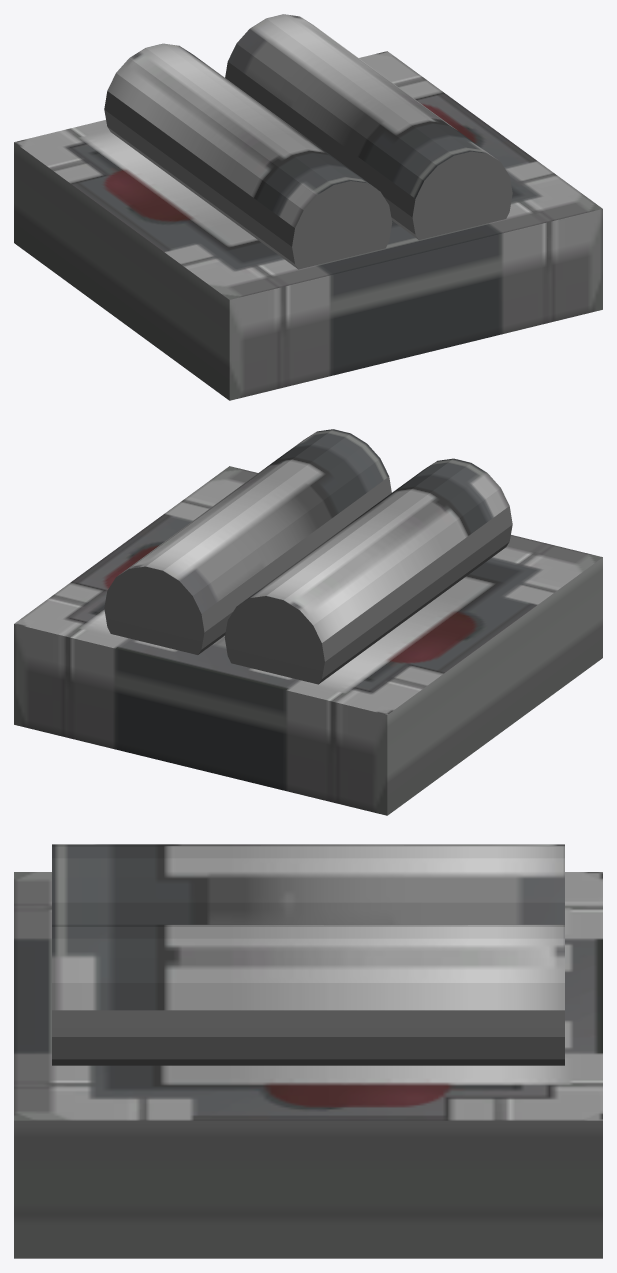
The model's file is Building_FuelOptimizer.obj.
The picture shows the model from 3 angles, top to bottom: view 1: azimuth 30°, elevation 25°; view 2: azimuth 150°, elevation 25°; view 3: azimuth 270°, elevation 25°; orthographic projection. The views are drawn at different scales.
Visible parts, largest first — view 1: Body; view 2: Body; view 3: Body.
Part boxes in pixels (bbox=[...]): Body: bbox=[14, 14, 602, 400]; Body: bbox=[14, 429, 602, 815]; Body: bbox=[14, 844, 602, 1258].
Bounding box in the file's own units: 1.94 × 0.876 × 1.94.
1 material, 1 textured.
